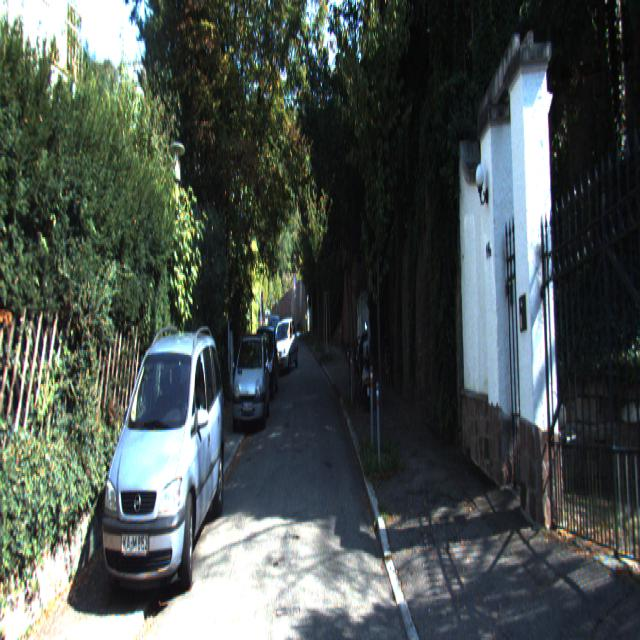Car: (101, 320, 225, 617), (232, 326, 270, 433), (270, 317, 298, 378), (359, 312, 373, 403)
